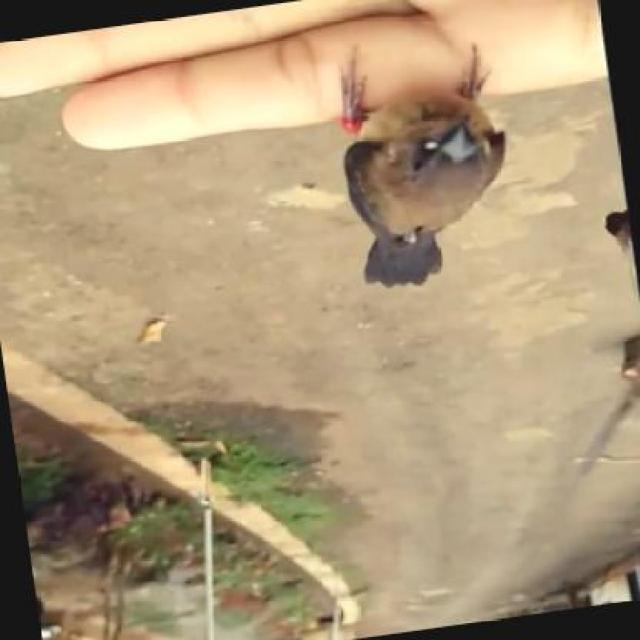Bird: (305, 34, 533, 301)
